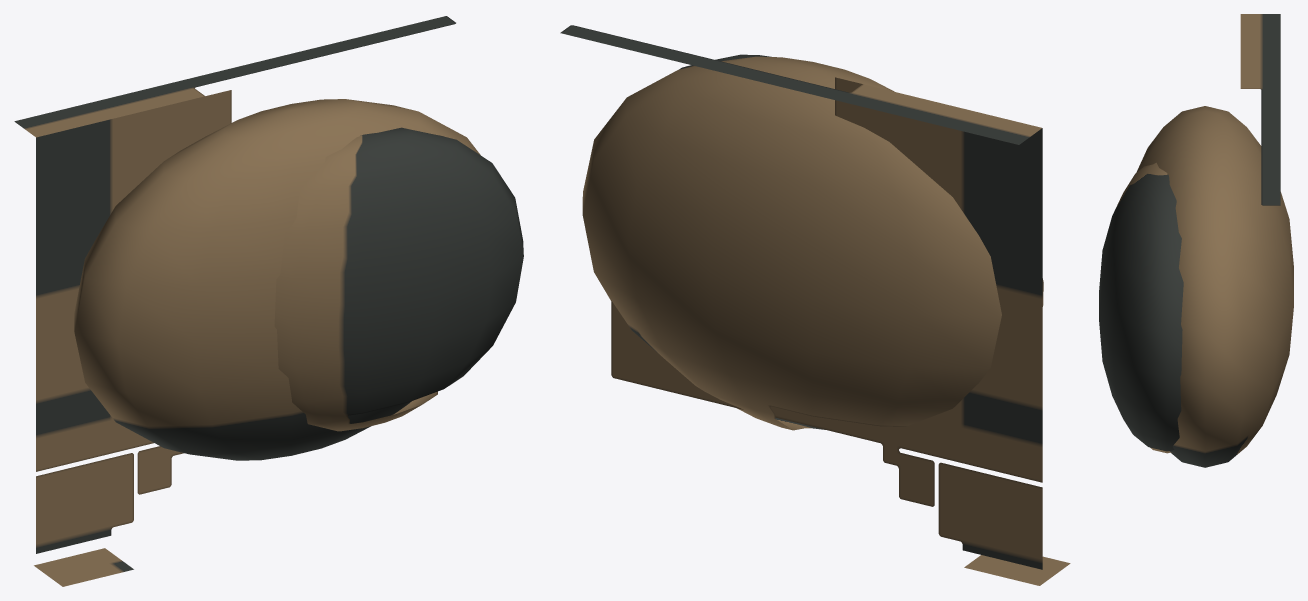
The model's file is section-5.obj.
3 renders of one model, left to right at view 1: azimuth 30°, elevation 25°; view 2: azimuth 150°, elevation 25°; view 3: azimuth 270°, elevation 25°, orthographic. The views are drawn at different scales.
Bounding box in the file's own units: 0.9399 × 0.8528 × 0.3856.
